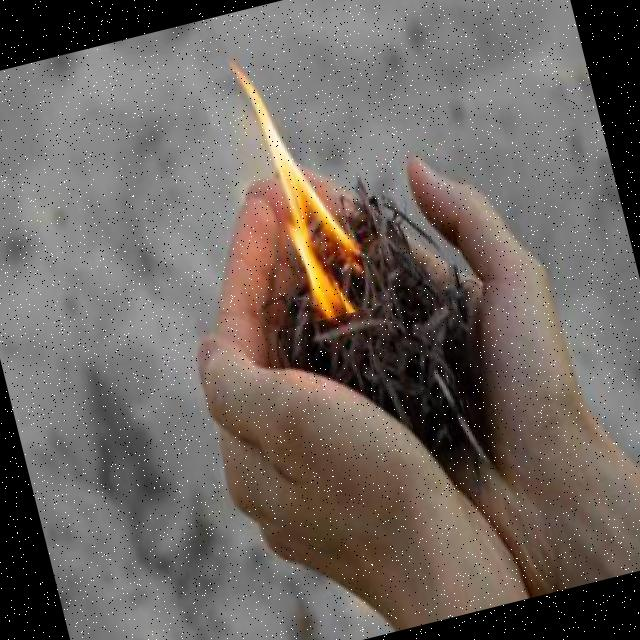fire: (195, 29, 394, 334)
